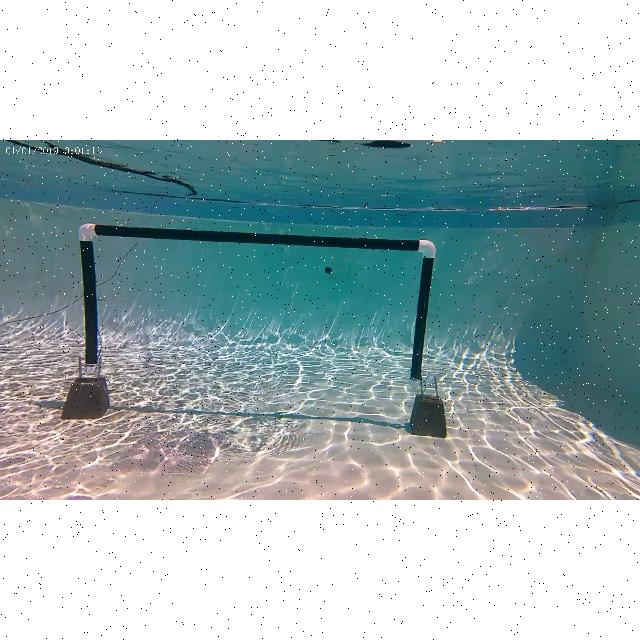prequal gate: (80, 223, 437, 375)
prequal gate leg l: (60, 220, 111, 420)
prequal gate leg r: (408, 233, 449, 439)
